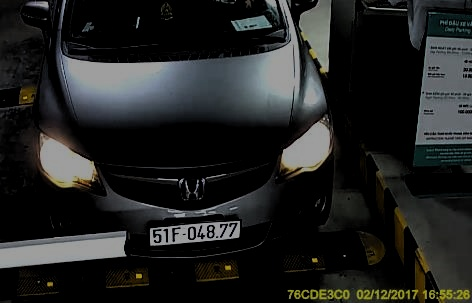plate: (149, 218, 245, 242)
